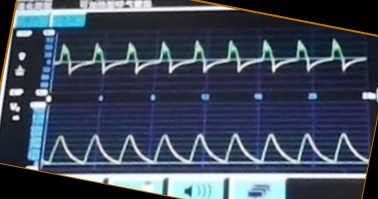Accumulation Flow: (58, 32, 356, 86)
Volume: (48, 115, 363, 170)
